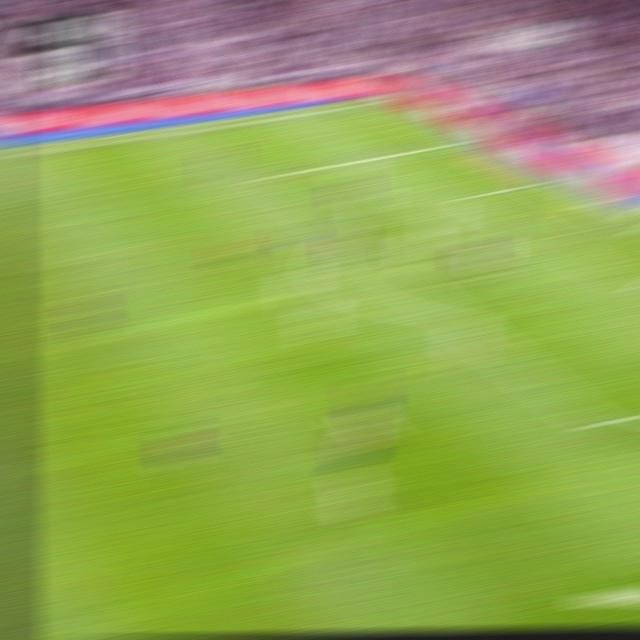bigarea_bottom_inner: (583, 410, 615, 439)
bigarea_top_inner: (252, 169, 281, 185)
bigarea_top_outter: (441, 136, 469, 147)
bottom_arc_area_intersection: (437, 306, 466, 325)
corner: (361, 96, 391, 107)
smallarea_bottom_inner: (627, 281, 640, 300)
smallarea_top_inner: (460, 191, 484, 201)
top_arc_area_intersection: (327, 226, 353, 238)
